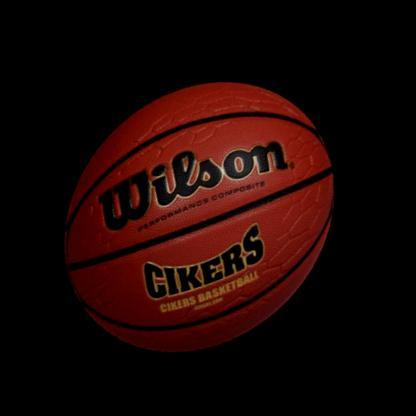basketball: (25, 41, 383, 400)
